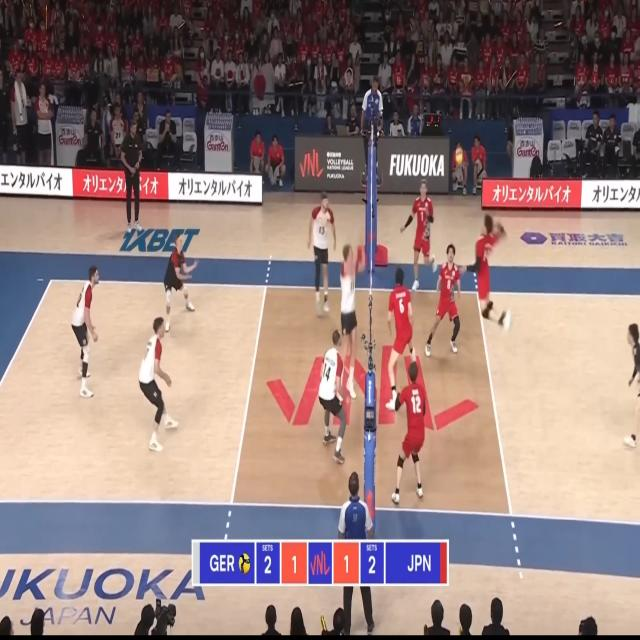ball: (456, 149, 462, 163)
